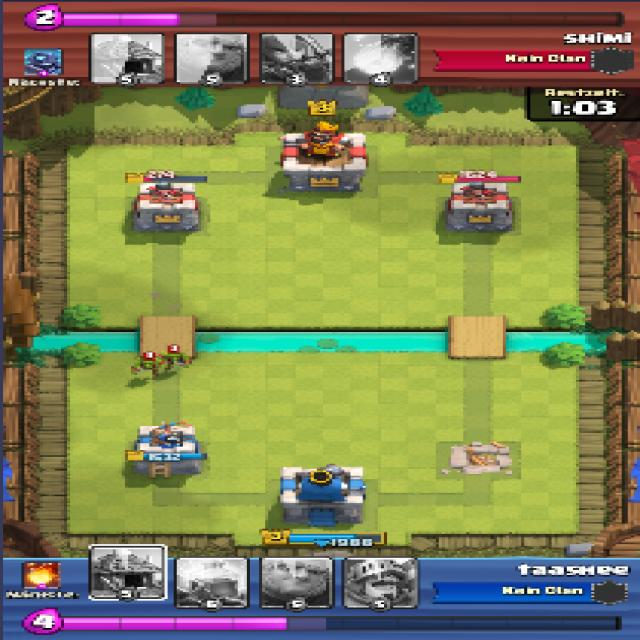Enemy-Goblin: (130, 356, 168, 377), (163, 351, 192, 370)
